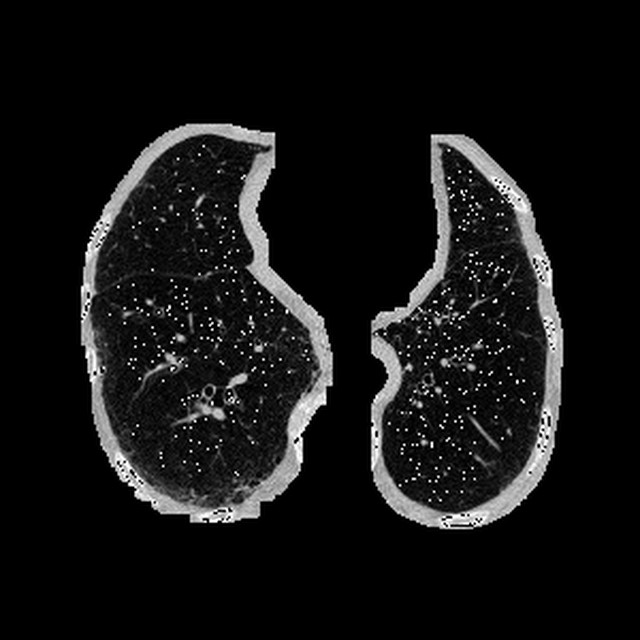PN: (96, 365, 105, 373)
